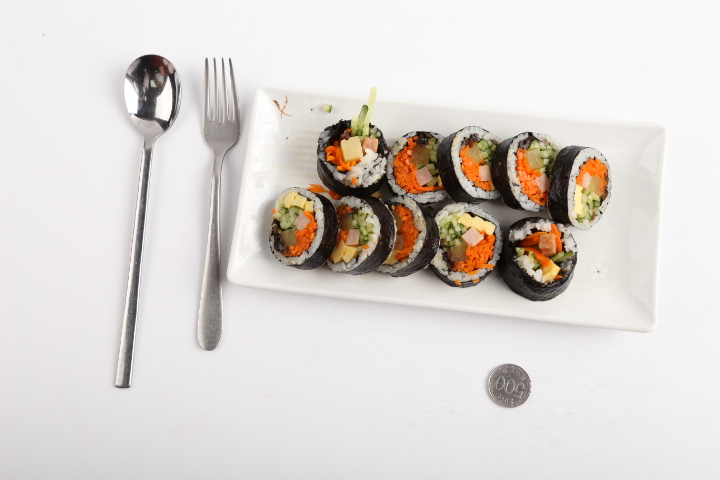dish: (225, 88, 664, 331)
ref_coin: (488, 363, 531, 407)
ref_fork: (203, 56, 240, 158)
ref_spoon: (124, 53, 181, 145)
김밥: (268, 119, 613, 301)
